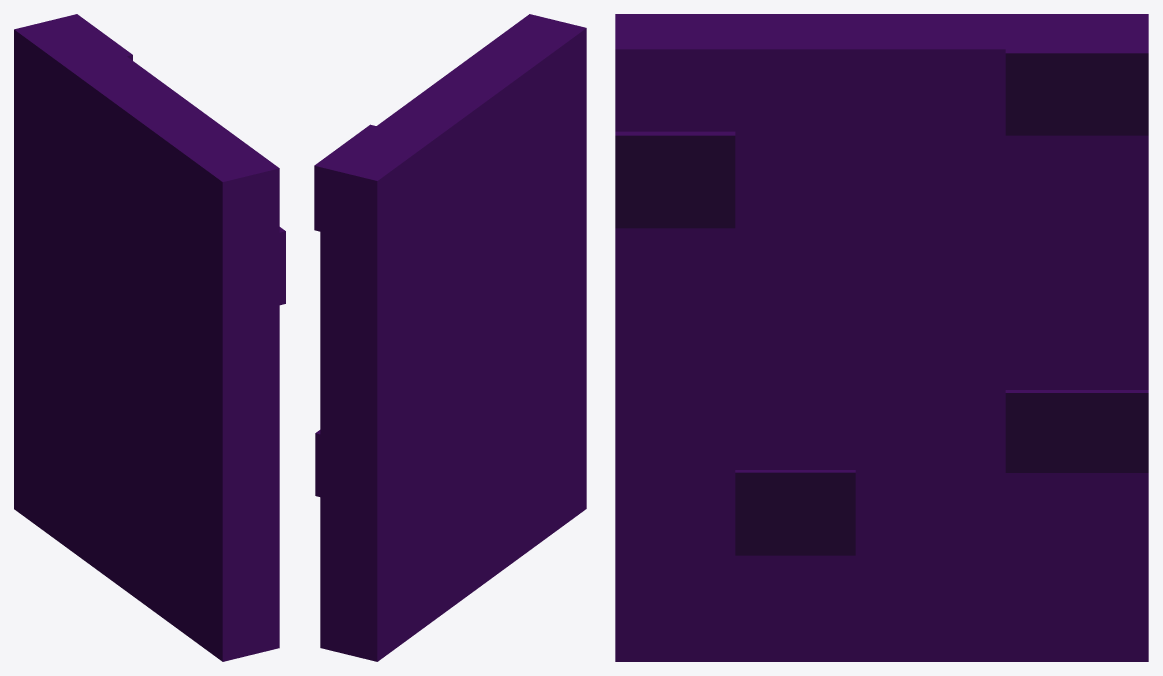
File: door.fbx
3 renders of one model, left to right at view 1: azimuth 30°, elevation 25°; view 2: azimuth 150°, elevation 25°; view 3: azimuth 270°, elevation 25°, orthographic. The views are drawn at different scales.
Parts seen in each view (by area): view 1: Cube; view 2: Cube; view 3: Cube.
Part boxes in pixels (x1,y1,x2,y2): Cube: (14,14,285,661); Cube: (314,14,586,661); Cube: (615,14,1148,661).
Size of the model in its own units: 139 by 1010 by 797.
